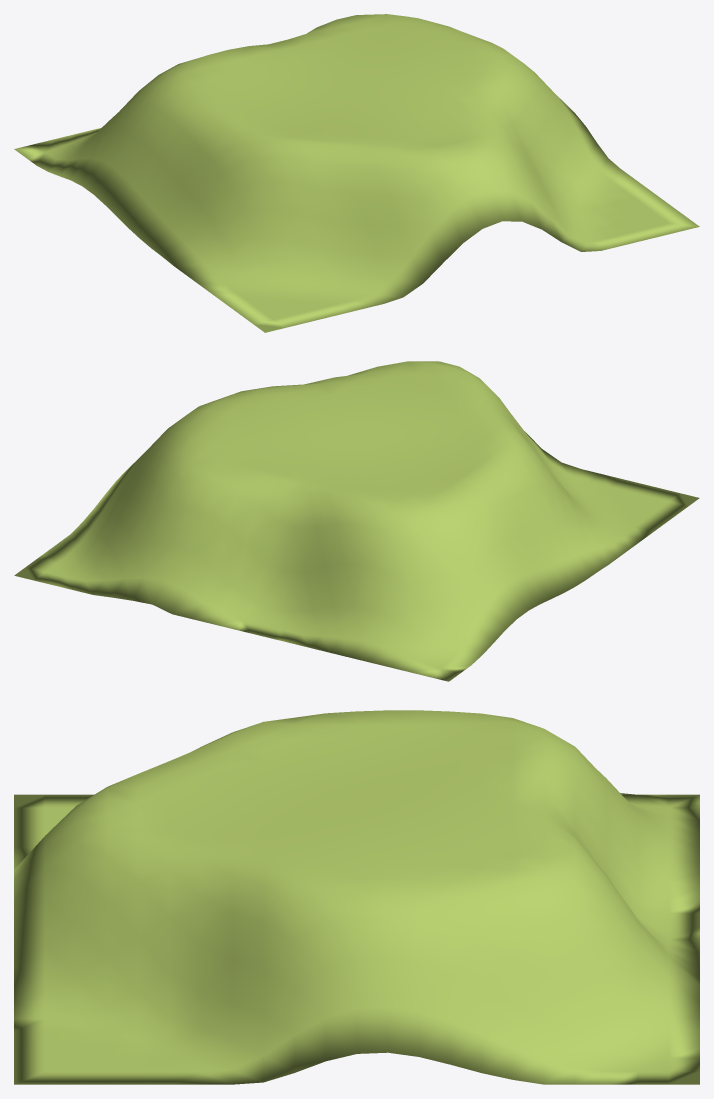
File: moss_terrain.glb
3 renders of one model, top to bottom at view 1: azimuth 30°, elevation 25°; view 2: azimuth 150°, elevation 25°; view 3: azimuth 270°, elevation 25°, orthographic. The views are drawn at different scales.
Visible parts, largest first — view 1: SM_Forest_MossTerrain; view 2: SM_Forest_MossTerrain; view 3: SM_Forest_MossTerrain.
Part boxes in pixels (bbox=[...]): SM_Forest_MossTerrain: bbox=[14, 14, 699, 332]; SM_Forest_MossTerrain: bbox=[14, 361, 699, 681]; SM_Forest_MossTerrain: bbox=[14, 710, 699, 1084].
Bounding box in the file's own units: 6.2 × 1.41 × 6.2.
